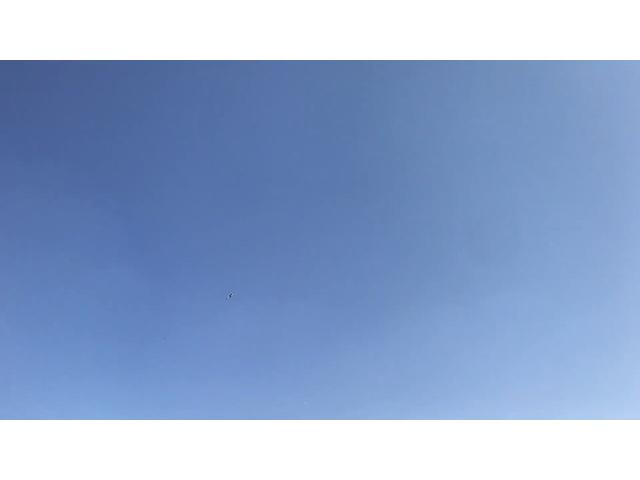Anti-Drone: (220, 286, 242, 304)
